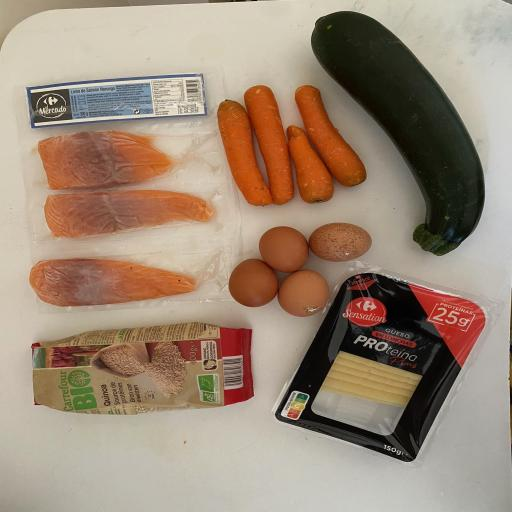carrot: (290, 84, 370, 190), (215, 96, 276, 208), (243, 85, 299, 206), (284, 120, 338, 206)
cheese: (271, 270, 490, 467)
courgette: (308, 8, 488, 260)
egg: (306, 220, 376, 263), (276, 267, 333, 319), (256, 223, 312, 274), (227, 256, 280, 308)
quinoa: (26, 319, 252, 418)
salmon: (25, 255, 206, 308), (41, 188, 218, 241), (36, 128, 180, 191)
